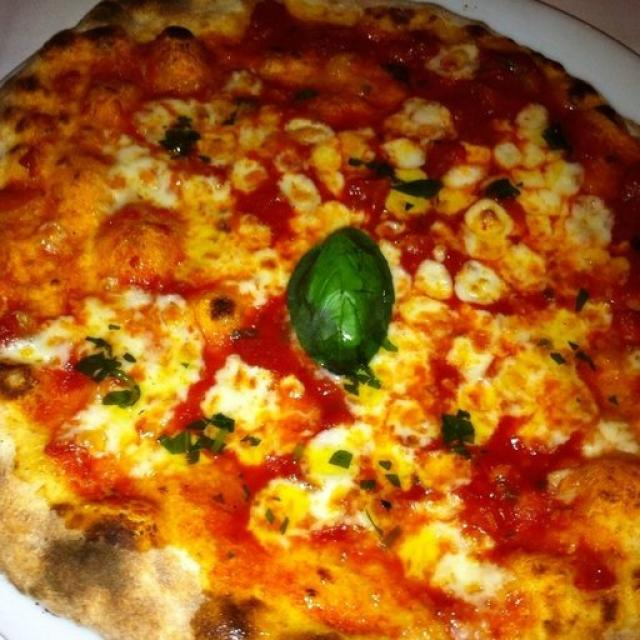Basil: (286, 222, 398, 375)
Cheese: (255, 420, 434, 544), (42, 298, 188, 450), (498, 125, 621, 262), (456, 301, 617, 376), (184, 191, 282, 309), (444, 149, 535, 270), (394, 498, 498, 595), (460, 357, 567, 450), (176, 66, 265, 174), (377, 264, 446, 402), (285, 123, 393, 208), (190, 361, 290, 445), (385, 110, 446, 214), (120, 134, 171, 206), (462, 256, 492, 308)
Pizza: (0, 0, 640, 640)
